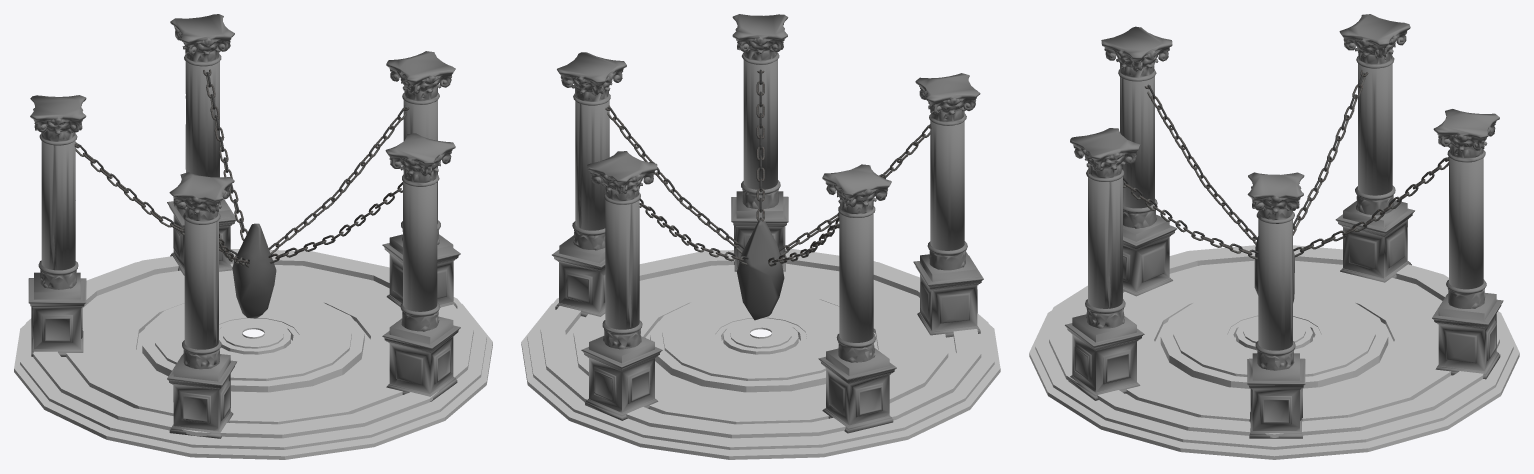
The model's file is total_middle.fbx.
The picture shows the model from 3 angles, left to right: view 1: azimuth 30°, elevation 25°; view 2: azimuth 150°, elevation 25°; view 3: azimuth 270°, elevation 25°; orthographic projection.
Visible parts, largest first — view 1: middle__1_, Group8603, Group8602, Group8601, Group8600, Group8599, Ctystal_L, asd, asd001, asd004, asd002; view 2: middle__1_, Group8600, Group8601, Group8602, Group8599, Group8603, Ctystal_L, asd, asd004, asd003, asd001, asd002; view 3: middle__1_, Group8603, Group8601, Group8600, Group8599, Group8602, asd003, asd002, asd001, asd004.
Part boxes in pixels (x1,y1,x2,y2): middle__1_: (14,249,492,459); Group8603: (382,133,460,401); Group8602: (167,172,236,438); Group8601: (28,95,86,356); Group8600: (167,14,235,275); Group8599: (382,51,460,308); Ctystal_L: (232,223,276,318); asd: (268,105,409,254); asd001: (203,69,247,240); asd004: (268,182,402,263); asd002: (74,142,237,255); middle__1_: (521,248,1000,459); Group8600: (581,151,662,420); Group8601: (818,164,896,433); Group8602: (913,73,983,337); Group8599: (552,52,626,317); Group8603: (731,14,788,271); Ctystal_L: (737,220,784,320); asd: (605,105,744,253); asd004: (756,69,764,221); asd003: (778,124,931,255); asd001: (639,198,748,265); asd002: (768,217,839,266); middle__1_: (1029,245,1519,459); Group8603: (1065,128,1144,400); Group8601: (1335,14,1414,282); Group8600: (1432,109,1503,379); Group8599: (1247,172,1305,438); Group8602: (1101,26,1177,296); asd003: (1144,84,1257,244); asd002: (1293,70,1368,235); asd001: (1293,156,1448,257); asd004: (1123,177,1258,259).
Size of the model in its own units: 2664 by 1531 by 2664.
